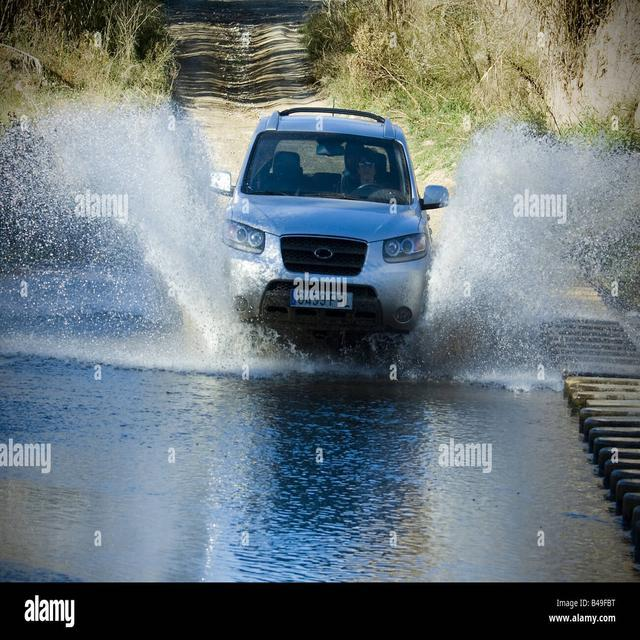Car-RiskLevel3: (198, 101, 455, 347)
